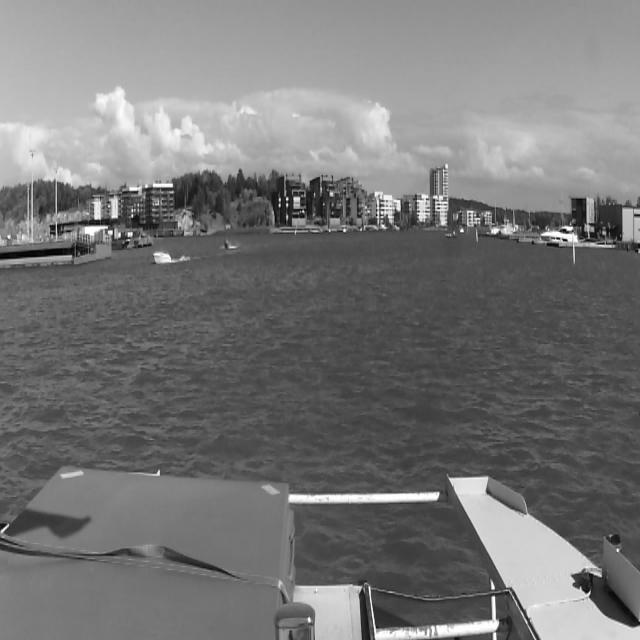buoy: (568, 232, 578, 267), (292, 224, 298, 239), (475, 228, 479, 244), (466, 224, 469, 236)
ship: (542, 224, 578, 244), (150, 246, 172, 268), (220, 234, 233, 252), (443, 230, 453, 238), (458, 225, 464, 231)
